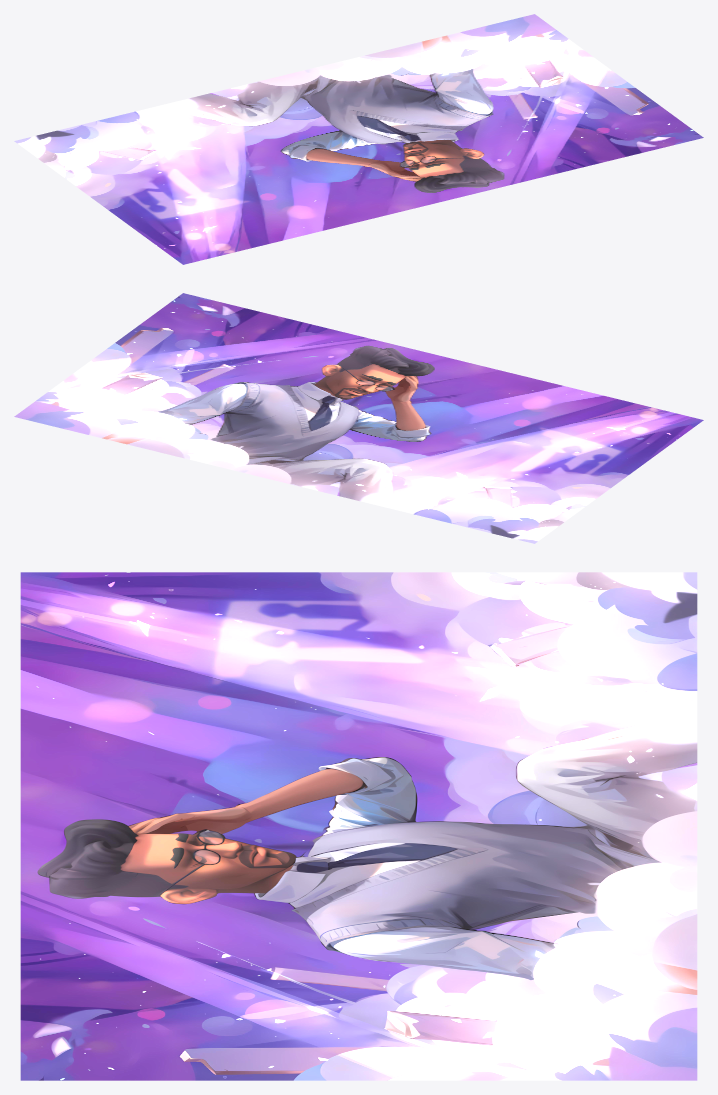
Rendered from cs_headache.glb.
3 views of the same model, one above another, from view 1: azimuth 30°, elevation 25°; view 2: azimuth 150°, elevation 25°; view 3: azimuth 270°, elevation 25° (orthographic). The views are drawn at different scales.
Parts seen in each view (by area): view 1: 01; view 2: 01; view 3: 01.
Boxes of the visible parts, x1=… form: 01: x1=14, y1=14, x2=703, y2=264; 01: x1=14, y1=293, x2=703, y2=543; 01: x1=20, y1=572, x2=697, y2=1080.
Bounding box in the file's own units: 38.4 × 0 × 21.6.
Materials: 16 (16 with a texture image).
